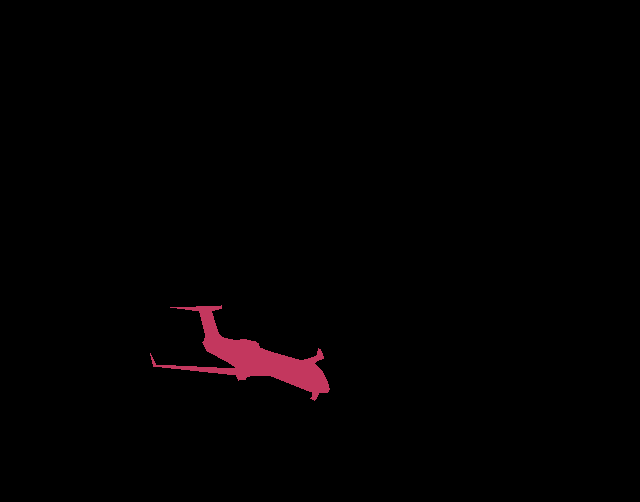Airplane: (150, 305, 330, 400)
